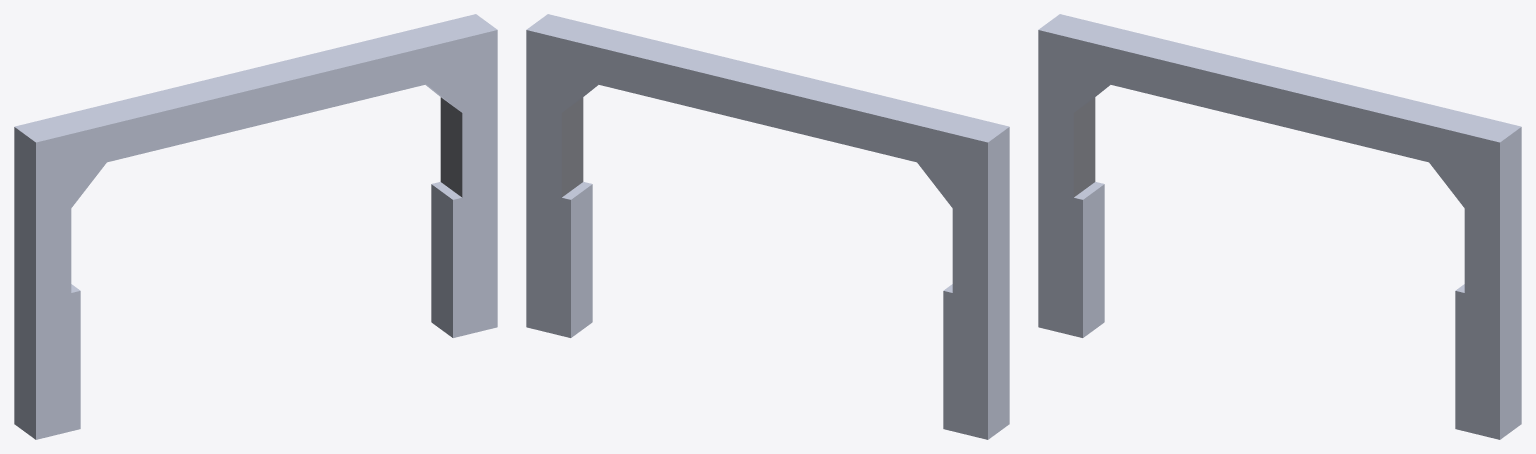
Rendered from spaceInterior_062.obj.
3 renders of one model, left to right at view 1: azimuth 30°, elevation 25°; view 2: azimuth 150°, elevation 25°; view 3: azimuth 330°, elevation 25°, orthographic.
Parts seen in each view (by area): view 1: Mesh1 Group1 Model; view 2: Mesh1 Group1 Model; view 3: Mesh1 Group1 Model.
Boxes of the visible parts, box(x1,y1,x2,y2) form: Mesh1 Group1 Model: box(14, 14, 497, 439); Mesh1 Group1 Model: box(526, 14, 1009, 439); Mesh1 Group1 Model: box(1038, 14, 1521, 439).
Size of the model in its own units: 1.62 by 1 by 0.1324.
